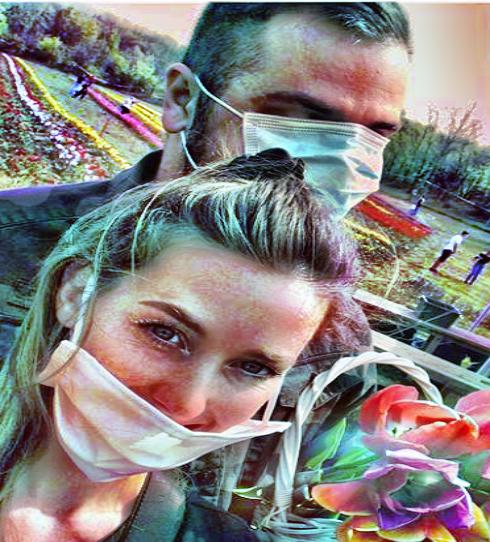mask_weared_incorrect: (43, 190, 333, 482), (162, 2, 421, 224)
